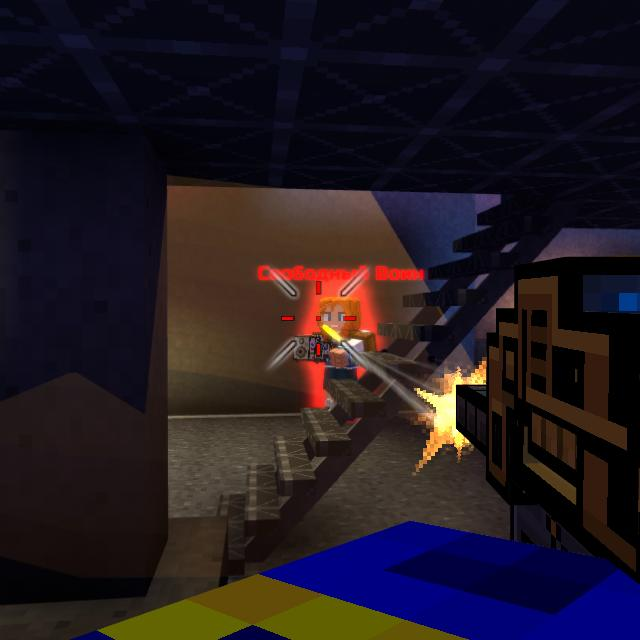Enemy: (299, 296, 379, 412)
